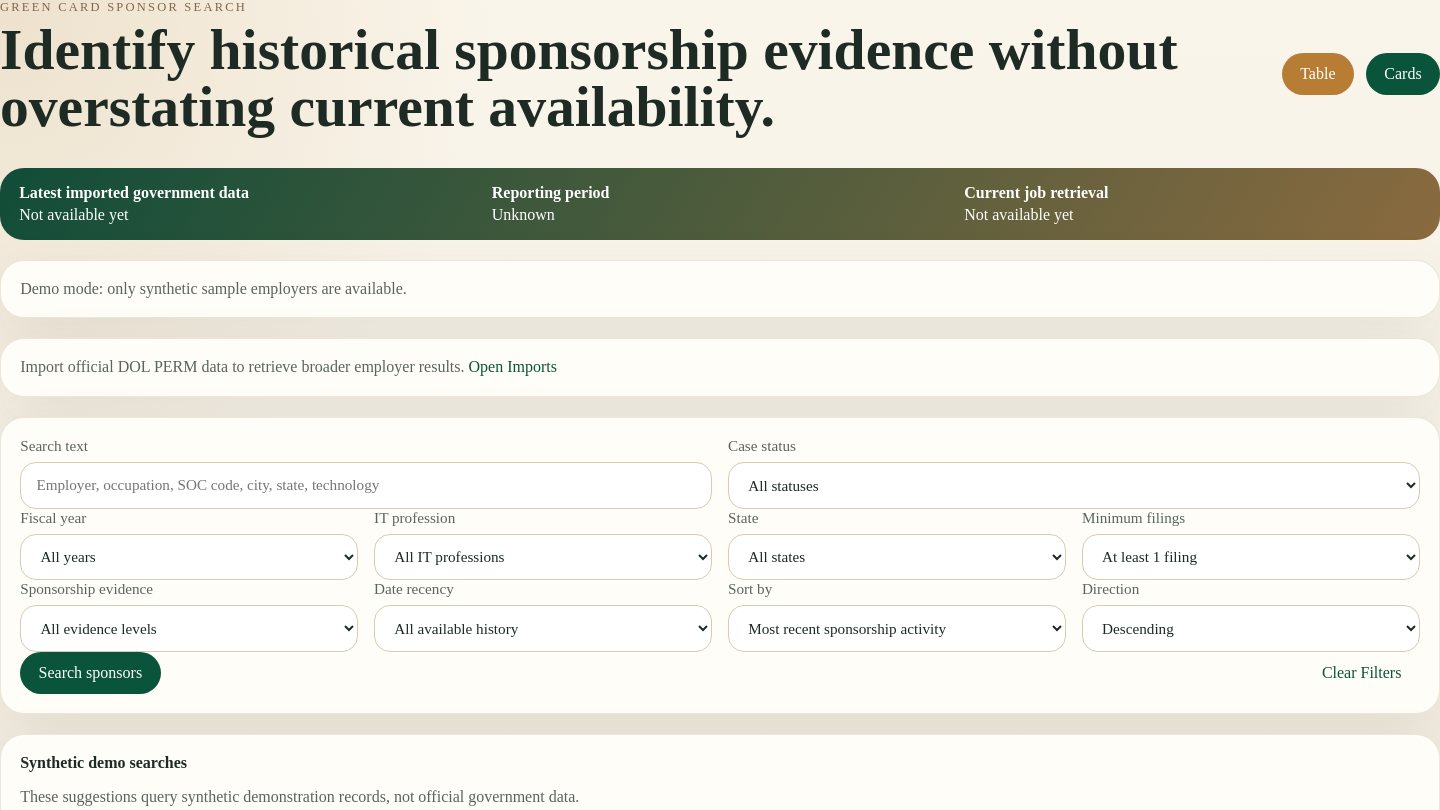
no match state is shown correctly
Type "unknown" into the field with placeholder "Employer, occupation, SOC code, city, state, technology" at (366, 485), box [20,462,712,508]
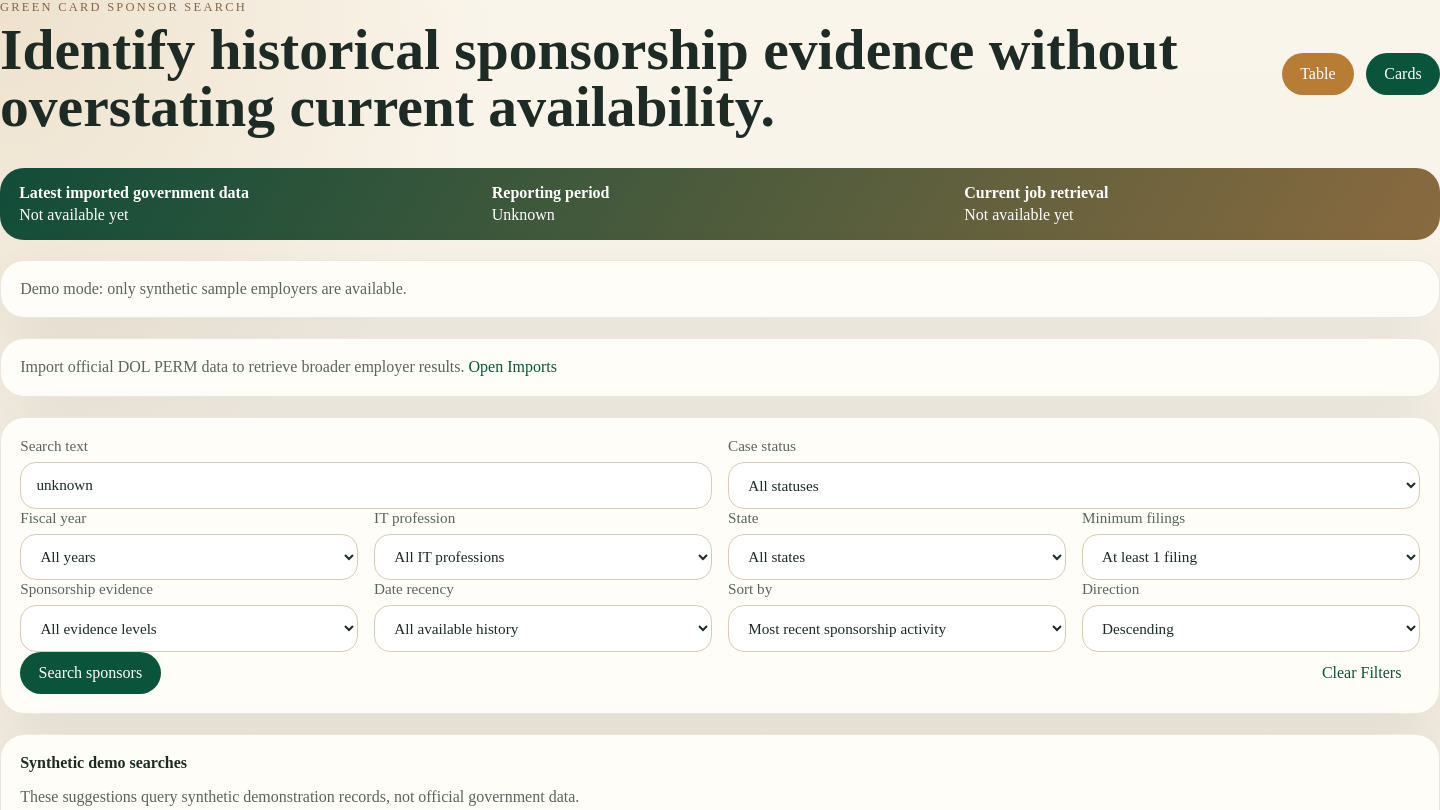
Click the button "Search sponsors" at (90, 673), box [20,652,160,694]
(page scrolled)
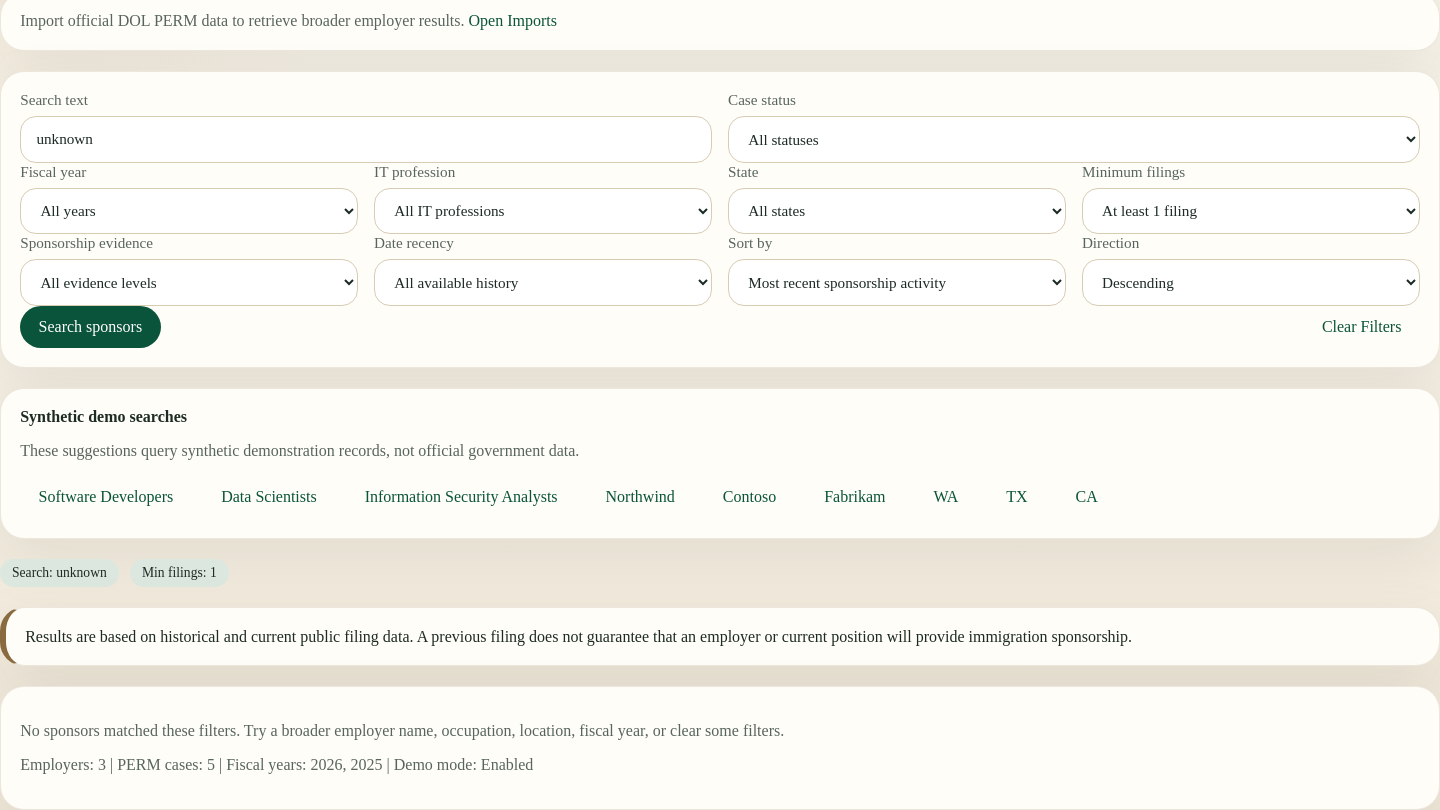
Expected: the text "No sponsors matched these filters" is shown, [20,722,784,739]
